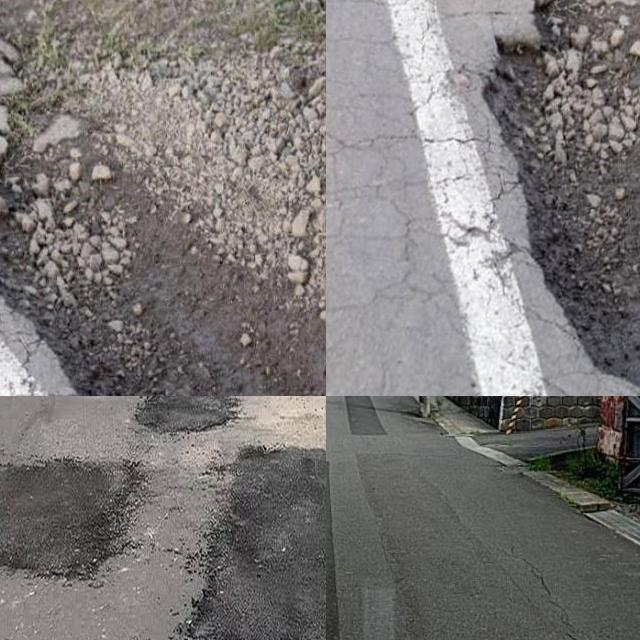Pinggir: (0, 40, 326, 396), (463, 0, 640, 396)
Sambungan: (192, 451, 326, 640), (0, 466, 134, 577), (133, 396, 243, 440), (345, 396, 388, 435)
